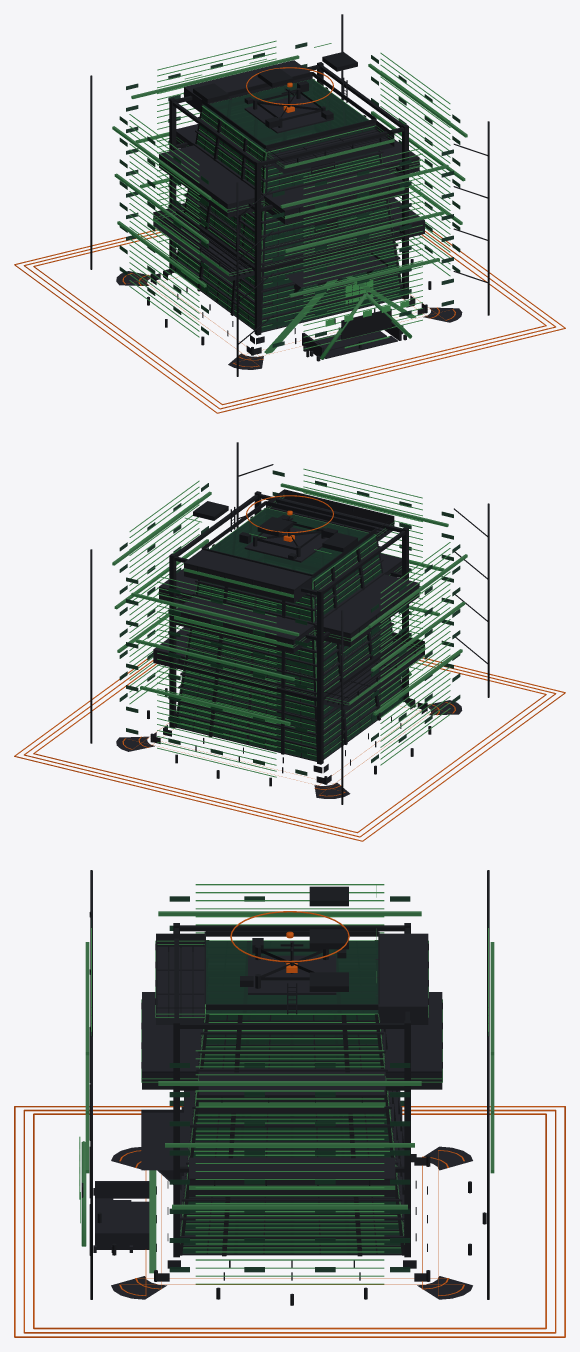
File: fitness-ext-v2-draft-s72.glb
3 renders of one model, top to bottom at view 1: azimuth 30°, elevation 25°; view 2: azimuth 150°, elevation 25°; view 3: azimuth 270°, elevation 25°, orthographic. The views are drawn at different scales.
Parts seen in each view (by area): view 1: Fitness_Body_Glass, fitness_s72_emissive_polish_mesh, Fitness_Cantilever_F20, fitness_s72_accent_polish_mesh, Fitness_Body_Ledges, fitness_s72_glass_polish_mesh, fitness_s72_detail_polish_mesh, fitness_s72_energy_polish_mesh, Fitness_Window_Frames, Fitness_Energy_Strips, Fitness_Horizontal_Beams, Fitness_Cantilever_F30 (+18 smaller); view 2: Fitness_Body_Glass, fitness_s72_emissive_polish_mesh, Fitness_Cantilever_F20, fitness_s72_accent_polish_mesh, Fitness_Body_Ledges, fitness_s72_glass_polish_mesh, Fitness_Window_Frames, fitness_s72_energy_polish_mesh, Fitness_Cantilever_F30, Fitness_Energy_Strips, fitness_s72_detail_polish_mesh, Fitness_Horizontal_Beams (+15 smaller); view 3: Fitness_Body_Glass, Fitness_Cantilever_F20, fitness_s72_emissive_polish_mesh, fitness_s72_energy_polish_mesh, fitness_s72_accent_polish_mesh, Fitness_Window_Frames, Fitness_Body_Ledges, Fitness_Cantilever_F10, Fitness_Cantilever_F30, Fitness_Energy_Strips, fitness_s72_detail_polish_mesh, fitness_s72_glass_polish_mesh (+20 smaller).
Boxes of the visible parts, left/top/right/bottom form: Fitness_Body_Glass: left=175, top=79, right=401, bottom=331; fitness_s72_emissive_polish_mesh: left=129, top=40, right=450, bottom=349; Fitness_Cantilever_F20: left=159, top=124, right=419, bottom=224; fitness_s72_accent_polish_mesh: left=112, top=55, right=467, bottom=359; Fitness_Body_Ledges: left=175, top=117, right=402, bottom=320; fitness_s72_glass_polish_mesh: left=119, top=42, right=460, bottom=347; fitness_s72_detail_polish_mesh: left=90, top=14, right=489, bottom=376; fitness_s72_energy_polish_mesh: left=14, top=67, right=565, bottom=413; Fitness_Window_Frames: left=176, top=111, right=401, bottom=332; Fitness_Energy_Strips: left=177, top=79, right=399, bottom=327; Fitness_Horizontal_Beams: left=172, top=65, right=404, bottom=271; Fitness_Cantilever_F30: left=184, top=60, right=394, bottom=173; Fitness_Body_Glass: left=177, top=508, right=402, bottom=760; fitness_s72_emissive_polish_mesh: left=129, top=468, right=450, bottom=777; Fitness_Cantilever_F20: left=159, top=553, right=419, bottom=653; fitness_s72_accent_polish_mesh: left=112, top=483, right=467, bottom=725; Fitness_Body_Ledges: left=175, top=546, right=403, bottom=749; fitness_s72_glass_polish_mesh: left=119, top=470, right=460, bottom=775; Fitness_Window_Frames: left=177, top=540, right=402, bottom=761; fitness_s72_energy_polish_mesh: left=14, top=495, right=565, bottom=841; Fitness_Cantilever_F30: left=184, top=489, right=394, bottom=602; Fitness_Energy_Strips: left=178, top=508, right=399, bottom=756; fitness_s72_detail_polish_mesh: left=90, top=442, right=489, bottom=804; Fitness_Horizontal_Beams: left=174, top=494, right=405, bottom=701; Fitness_Body_Glass: left=182, top=941, right=401, bottom=1253; Fitness_Cantilever_F20: left=142, top=992, right=442, bottom=1113; fitness_s72_emissive_polish_mesh: left=79, top=884, right=488, bottom=1284; fitness_s72_energy_polish_mesh: left=14, top=911, right=565, bottom=1337; fitness_s72_accent_polish_mesh: left=81, top=911, right=494, bottom=1246; Fitness_Window_Frames: left=180, top=947, right=403, bottom=1255; Fitness_Body_Ledges: left=180, top=1029, right=404, bottom=1238; Fitness_Cantilever_F10: left=189, top=1157, right=395, bottom=1196; Fitness_Cantilever_F30: left=156, top=933, right=428, bottom=1024; Fitness_Energy_Strips: left=180, top=940, right=403, bottom=1248; fitness_s72_detail_polish_mesh: left=81, top=870, right=489, bottom=1299; fitness_s72_glass_polish_mesh: left=91, top=896, right=488, bottom=1272.
Size of the model in its own units: 24.15 by 14.15 by 24.37.
